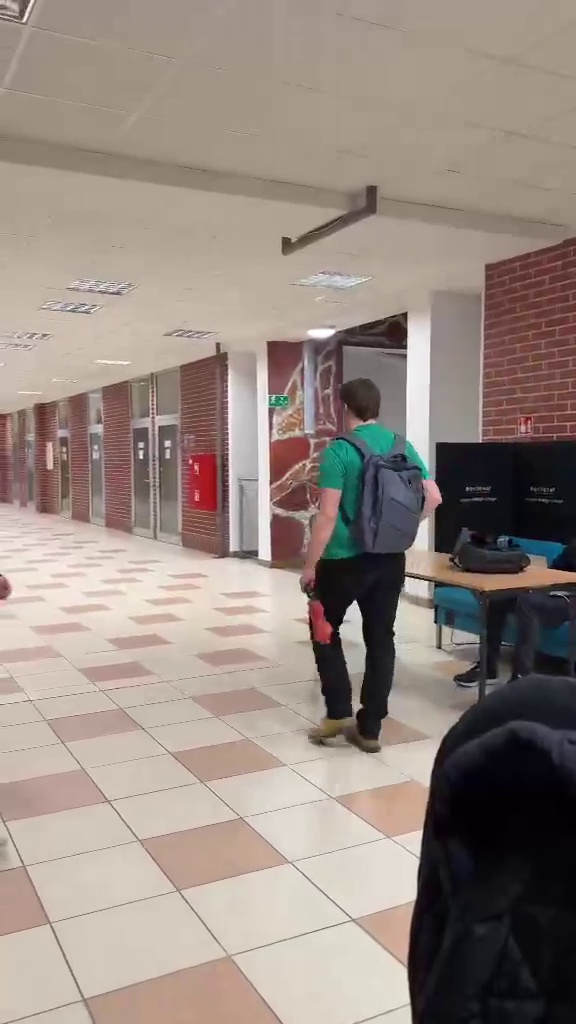no vest: (300, 386, 440, 749)
